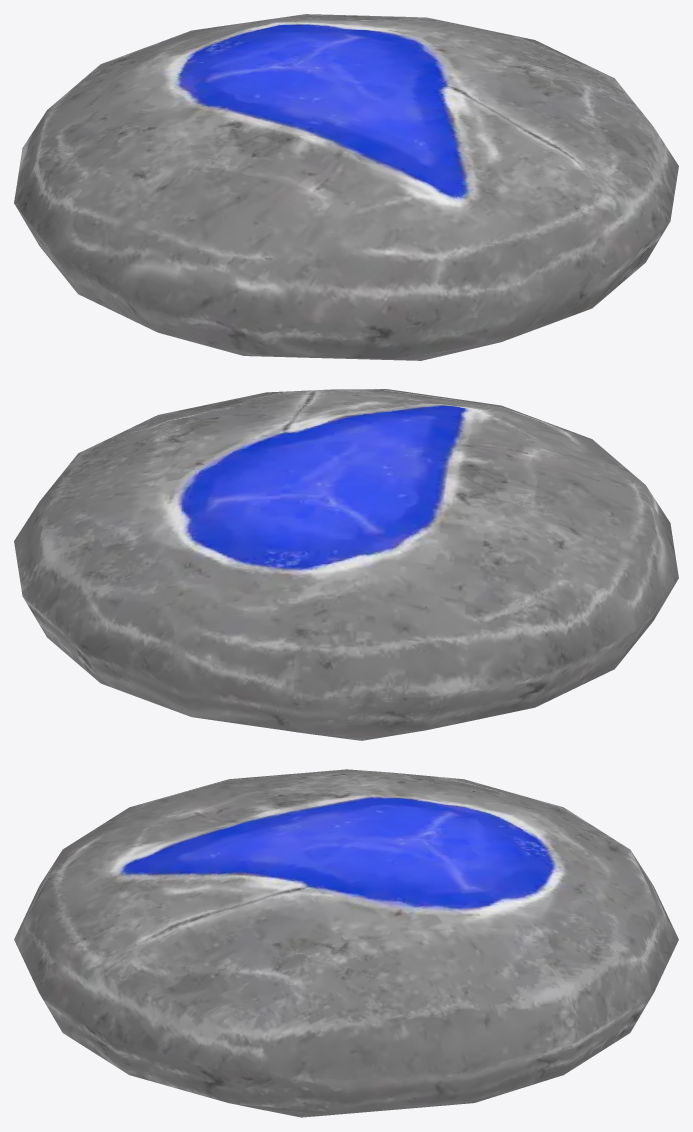
3 views of the same model, one above another, from view 1: azimuth 30°, elevation 25°; view 2: azimuth 150°, elevation 25°; view 3: azimuth 270°, elevation 25° (orthographic).
Parts seen in each view (by area): view 1: SM_Water_Rune_01_LOD0; view 2: SM_Water_Rune_01_LOD0; view 3: SM_Water_Rune_01_LOD0.
Part boxes in pixels (x1,y1,x2,y2): SM_Water_Rune_01_LOD0: [14, 14, 678, 360]; SM_Water_Rune_01_LOD0: [14, 389, 678, 740]; SM_Water_Rune_01_LOD0: [14, 769, 678, 1117].
Bounding box in the file's own units: 0.2232 × 0.0792 × 0.2232.
1 material, 1 textured.
